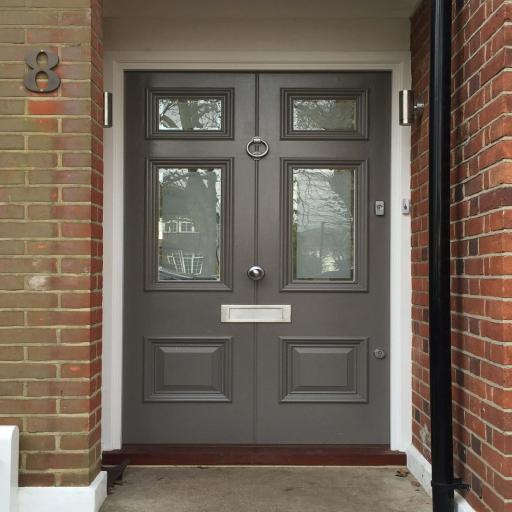door: (89, 48, 434, 467)
